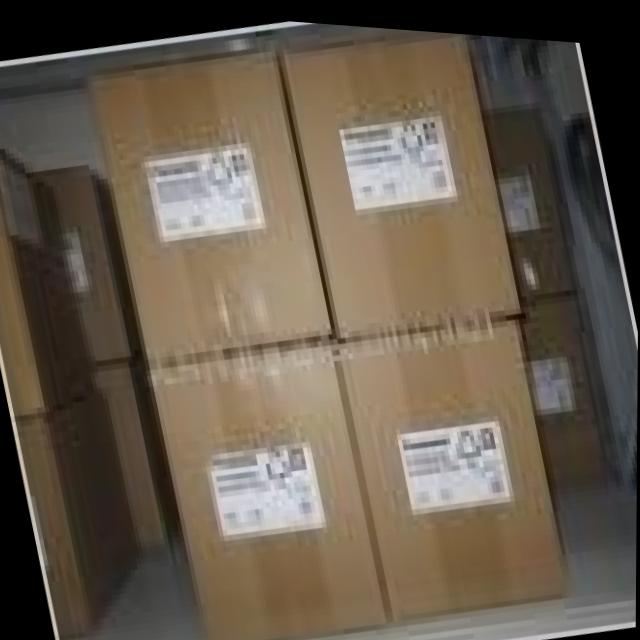box: (89, 45, 330, 361), (148, 335, 391, 640), (280, 30, 523, 332), (337, 314, 570, 616), (13, 385, 142, 640), (0, 145, 95, 417), (517, 288, 623, 487), (40, 164, 146, 362), (479, 99, 580, 292), (92, 358, 181, 548)
